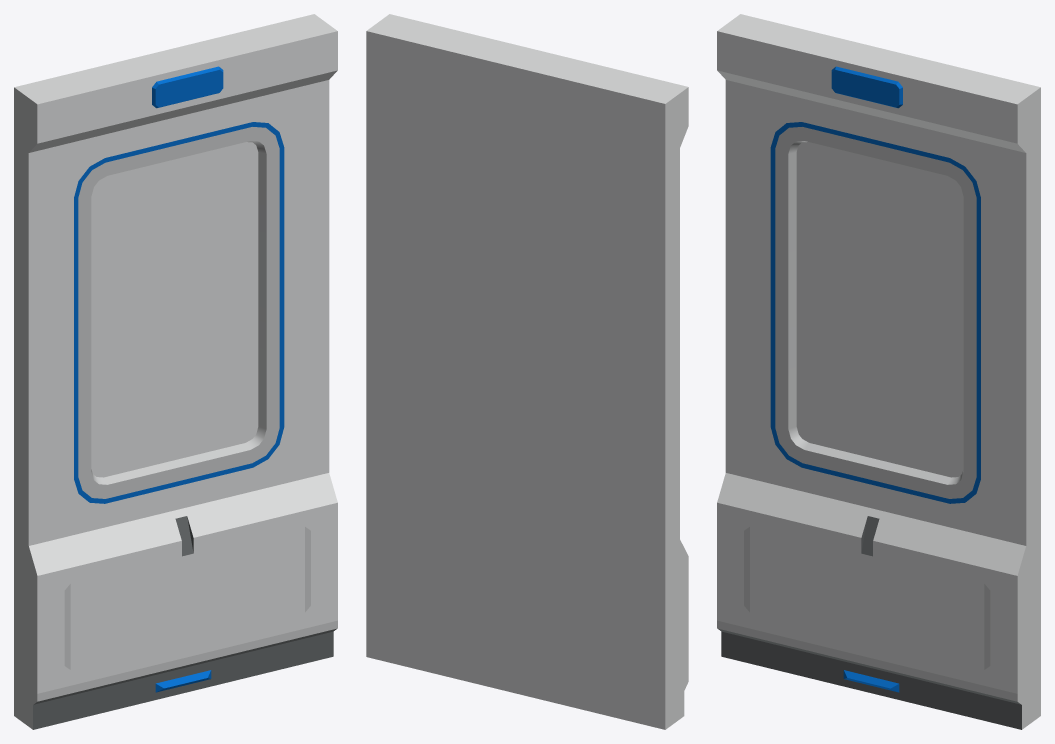
Rendered from Wall_type_A_020.fbx.
3 views of the same model, side by side, from view 1: azimuth 30°, elevation 25°; view 2: azimuth 150°, elevation 25°; view 3: azimuth 330°, elevation 25° (orthographic).
Visible parts, largest first — view 1: Wall_type_A_020; view 2: Wall_type_A_020; view 3: Wall_type_A_020.
Part boxes in pixels (box(x1,y1,x2,y2)): Wall_type_A_020: box(14, 14, 337, 729); Wall_type_A_020: box(366, 14, 688, 729); Wall_type_A_020: box(717, 14, 1040, 729).
Bounding box in the file's own units: 200 × 28.98 × 400.
